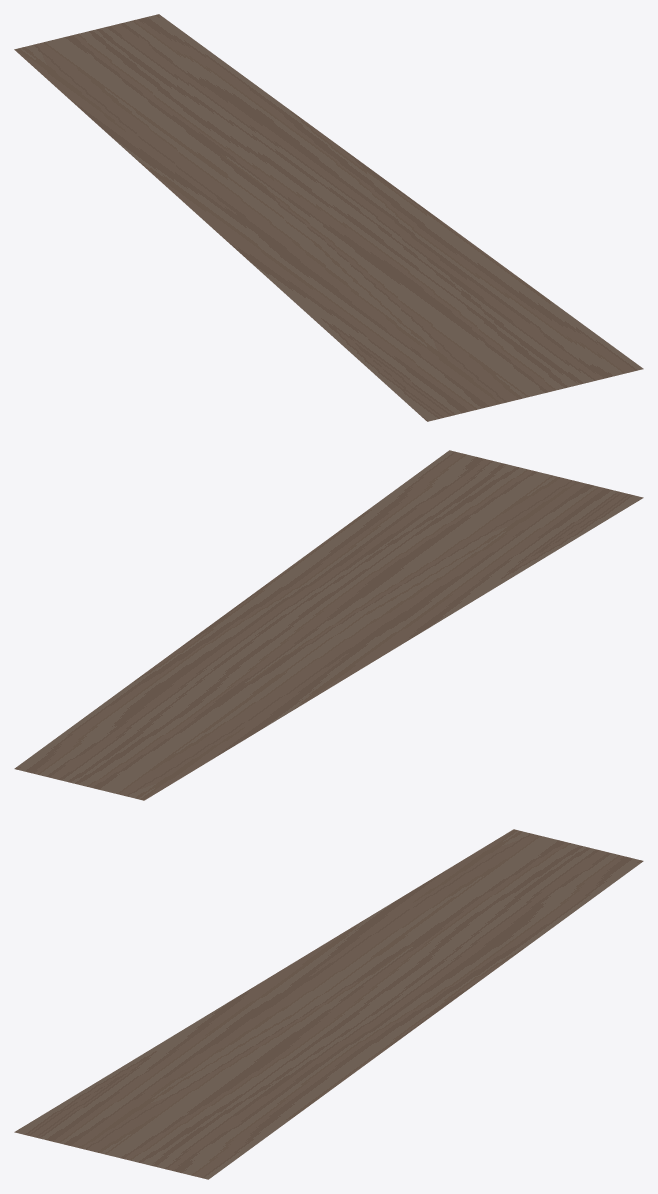
File: kd_stage_135ded_4_141_exterior_piece_0.glb
3 views of the same model, one above another, from view 1: azimuth 30°, elevation 25°; view 2: azimuth 150°, elevation 25°; view 3: azimuth 330°, elevation 25° (orthographic). The views are drawn at different scales.
Parts seen in each view (by area): view 1: kd_stage_135ded_4_141_exterior_piece_0; view 2: kd_stage_135ded_4_141_exterior_piece_0; view 3: kd_stage_135ded_4_141_exterior_piece_0.
Part boxes in pixels (left/top/right/bottom): kd_stage_135ded_4_141_exterior_piece_0: left=14, top=14, right=643, bottom=421; kd_stage_135ded_4_141_exterior_piece_0: left=14, top=450, right=643, bottom=800; kd_stage_135ded_4_141_exterior_piece_0: left=14, top=829, right=643, bottom=1179.
Bounding box in the file's own units: 0.2339 × 2.38e-07 × 0.9067.
1 material, 1 textured.
